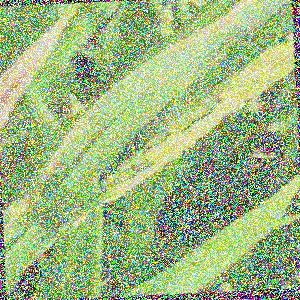Leaf_Blast: (6, 96, 124, 241)
